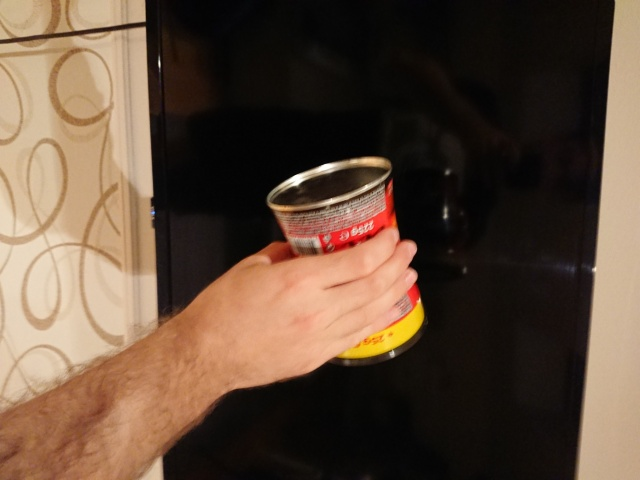Nescafe Classic 225g: (263, 152, 433, 370)
